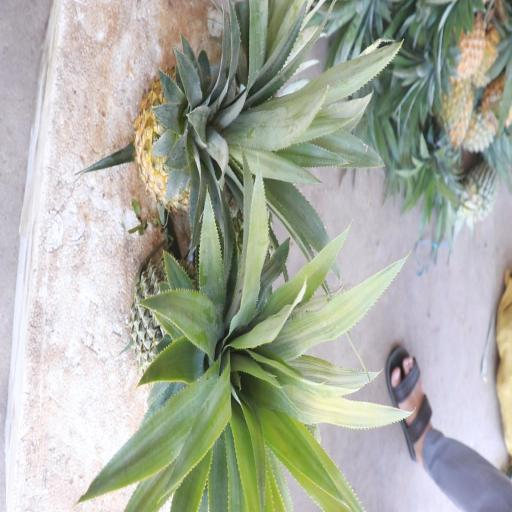Pineapple - v8 v1: (130, 59, 304, 219)
